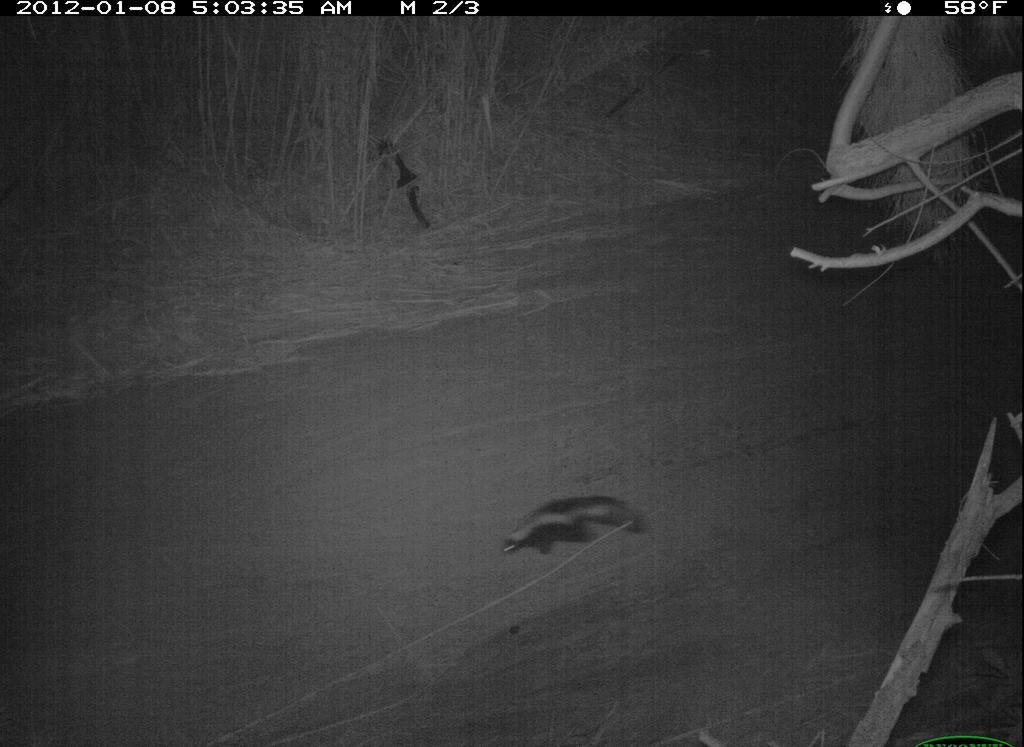skunk: (488, 486, 660, 573)
